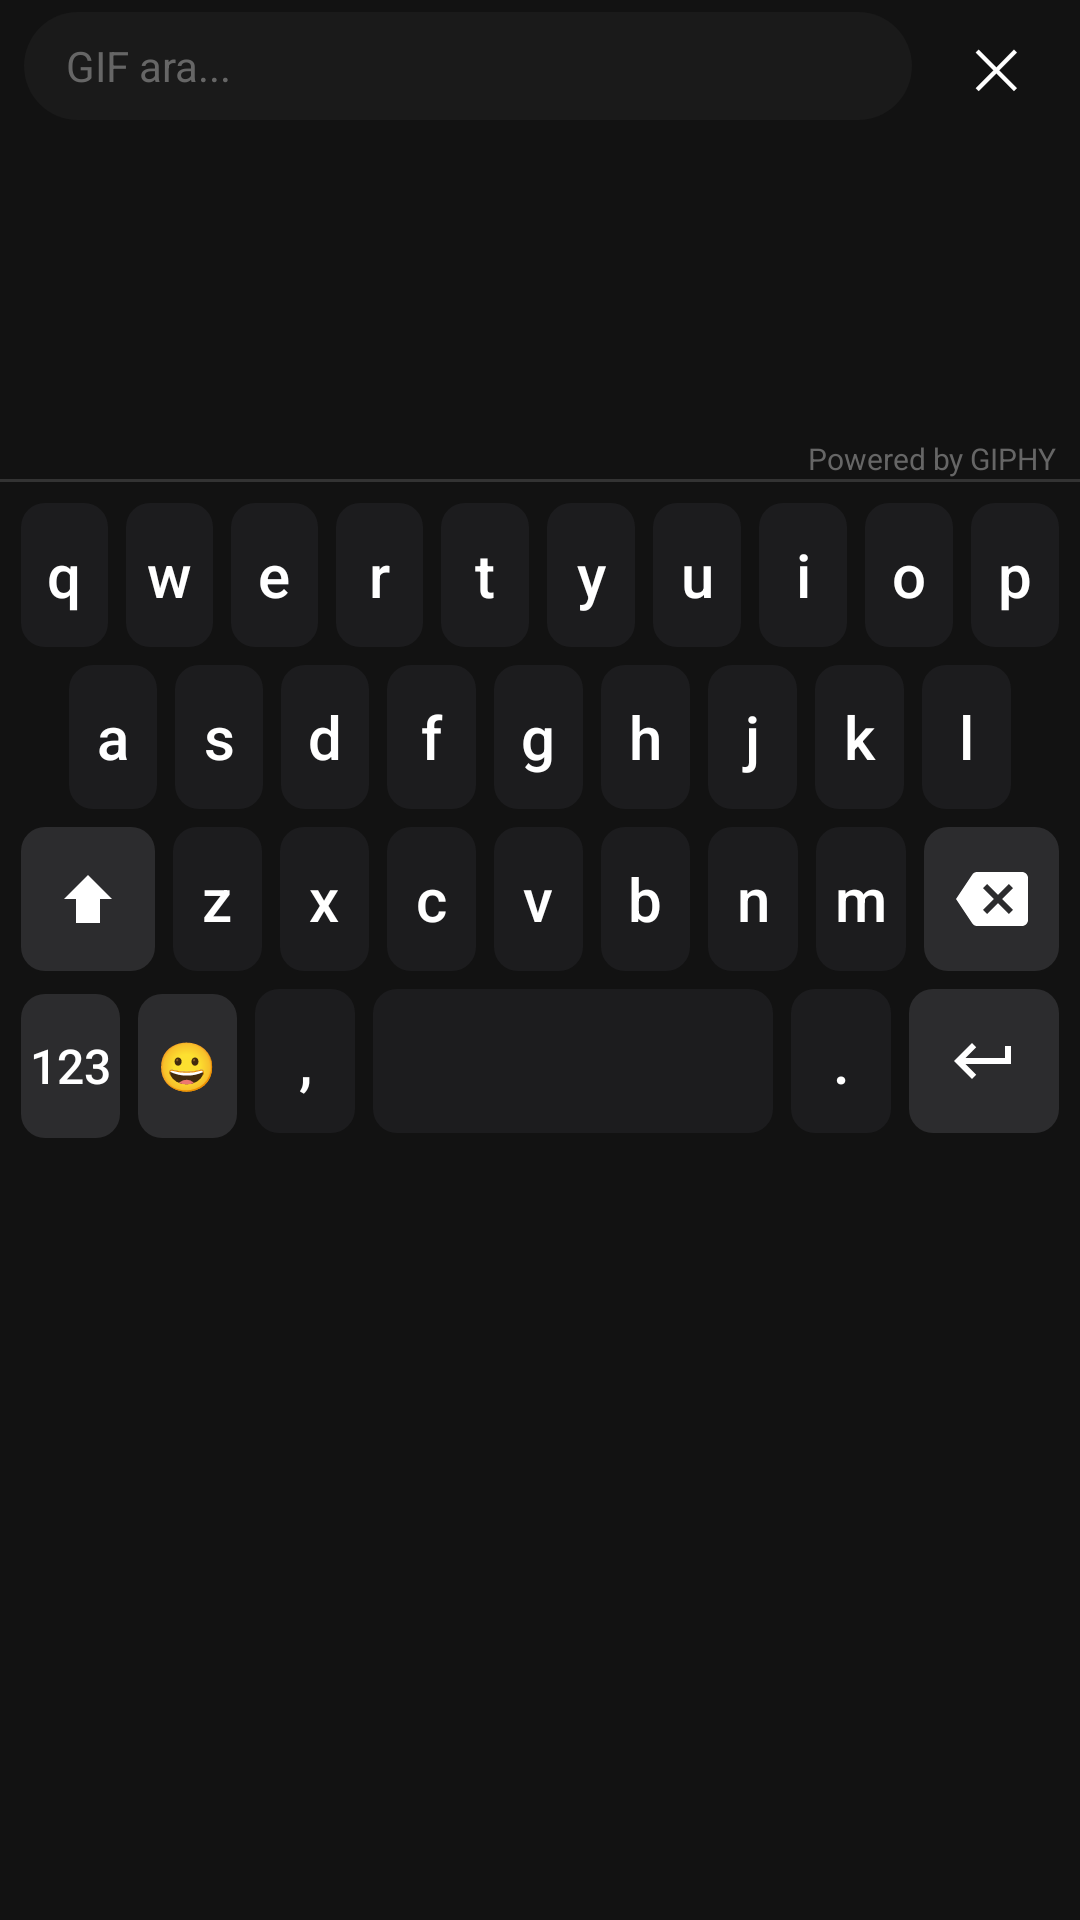

Icon bounding boxes for this 1080x1920 phone screenshot, format (x1, y1, x2, y2):
Backspace: (924, 827, 1059, 971)
Enter: (909, 989, 1059, 1133)
Shift: (21, 827, 155, 971)
